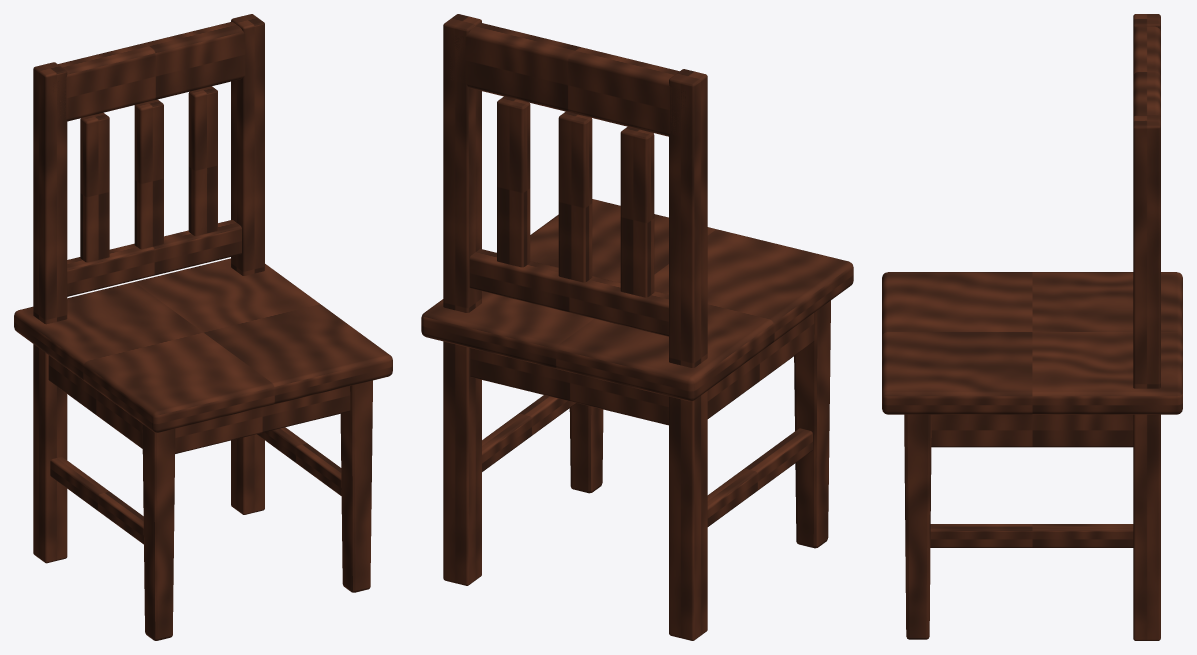
The model's file is kids_chair.glb.
3 views of the same model, side by side, from view 1: azimuth 30°, elevation 25°; view 2: azimuth 150°, elevation 25°; view 3: azimuth 270°, elevation 25° (orthographic). The views are drawn at different scales.
Visible parts, largest first — view 1: Furniture_KidsChair_Seat.001, Furniture_KidsChair_BackPost_-0.001, Furniture_KidsChair_TopRail.001, Furniture_KidsChair_BackPost_0.001, Furniture_KidsChair_FrontLeg_-0.001, Furniture_KidsChair_FrontLeg_0.001, Furniture_KidsChair_LowerBackRail.001, Furniture_KidsChair_UnderSeatRail_-0.001, Furniture_KidsChair_BackSlat_00.001, Furniture_KidsChair_BackSlat_01.001, Furniture_KidsChair_BackSlat_02.001, Furniture_KidsChair_SideStretcher_-0.001 (+2 smaller); view 2: Furniture_KidsChair_Seat.001, Furniture_KidsChair_BackPost_-0.001, Furniture_KidsChair_BackPost_0.001, Furniture_KidsChair_TopRail.001, Furniture_KidsChair_LowerBackRail.001, Furniture_KidsChair_FrontLeg_-0.001, Furniture_KidsChair_UnderSeatRail_0.001, Furniture_KidsChair_BackSlat_01.001, Furniture_KidsChair_BackSlat_00.001, Furniture_KidsChair_BackSlat_02.001, Furniture_KidsChair_SideStretcher_-0.001, Furniture_KidsChair_SideRail_-0.001 (+2 smaller); view 3: Furniture_KidsChair_Seat.001, Furniture_KidsChair_BackPost_0.001, Furniture_KidsChair_SideRail_0.001, Furniture_KidsChair_FrontLeg_0.001, Furniture_KidsChair_SideStretcher_0.001, Furniture_KidsChair_TopRail.001.
Part boxes in pixels (bbox=[...]): Furniture_KidsChair_Seat.001: bbox=[14, 258, 392, 432]; Furniture_KidsChair_BackPost_-0.001: bbox=[33, 62, 67, 563]; Furniture_KidsChair_TopRail.001: bbox=[53, 22, 245, 121]; Furniture_KidsChair_BackPost_0.001: bbox=[231, 14, 264, 514]; Furniture_KidsChair_FrontLeg_-0.001: bbox=[142, 424, 175, 640]; Furniture_KidsChair_FrontLeg_0.001: bbox=[340, 380, 372, 592]; Furniture_KidsChair_LowerBackRail.001: bbox=[67, 220, 241, 296]; Furniture_KidsChair_UnderSeatRail_-0.001: bbox=[175, 386, 350, 453]; Furniture_KidsChair_BackSlat_00.001: bbox=[80, 112, 109, 262]; Furniture_KidsChair_BackSlat_01.001: bbox=[134, 99, 163, 249]; Furniture_KidsChair_BackSlat_02.001: bbox=[188, 86, 217, 235]; Furniture_KidsChair_SideStretcher_-0.001: bbox=[50, 457, 143, 544]; Furniture_KidsChair_Seat.001: bbox=[421, 199, 853, 401]; Furniture_KidsChair_BackPost_-0.001: bbox=[669, 69, 707, 640]; Furniture_KidsChair_BackPost_0.001: bbox=[443, 14, 481, 585]; Furniture_KidsChair_TopRail.001: bbox=[450, 23, 685, 136]; Furniture_KidsChair_LowerBackRail.001: bbox=[469, 249, 668, 336]; Furniture_KidsChair_FrontLeg_-0.001: bbox=[794, 300, 830, 548]; Furniture_KidsChair_UnderSeatRail_0.001: bbox=[470, 348, 668, 425]; Furniture_KidsChair_BackSlat_01.001: bbox=[558, 111, 592, 282]; Furniture_KidsChair_BackSlat_00.001: bbox=[620, 127, 654, 297]; Furniture_KidsChair_BackSlat_02.001: bbox=[497, 96, 530, 267]; Furniture_KidsChair_SideStretcher_-0.001: bbox=[707, 428, 812, 526]; Furniture_KidsChair_SideRail_-0.001: bbox=[707, 313, 814, 418]; Furniture_KidsChair_Seat.001: bbox=[882, 272, 1182, 414]; Furniture_KidsChair_BackPost_0.001: bbox=[1133, 115, 1160, 640]; Furniture_KidsChair_SideRail_0.001: bbox=[931, 414, 1133, 447]; Furniture_KidsChair_FrontLeg_0.001: bbox=[904, 414, 931, 639]; Furniture_KidsChair_SideStretcher_0.001: bbox=[930, 524, 1133, 547]; Furniture_KidsChair_TopRail.001: bbox=[1133, 26, 1160, 117].
Size of the model in its own units: 0.35 by 0.68 by 0.36.
1 material, 1 textured.
